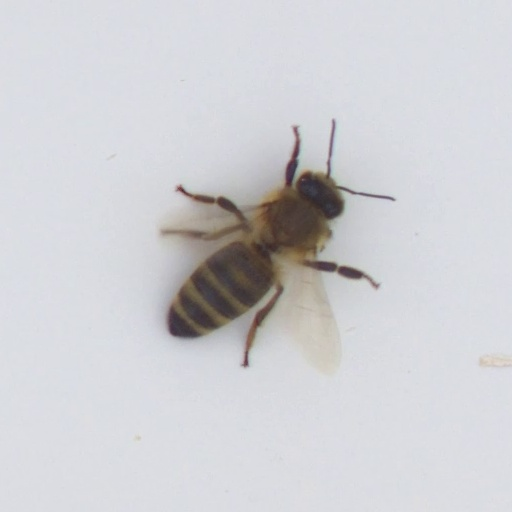Bee: (139, 162, 355, 351)
Thorax: (253, 185, 335, 255)
